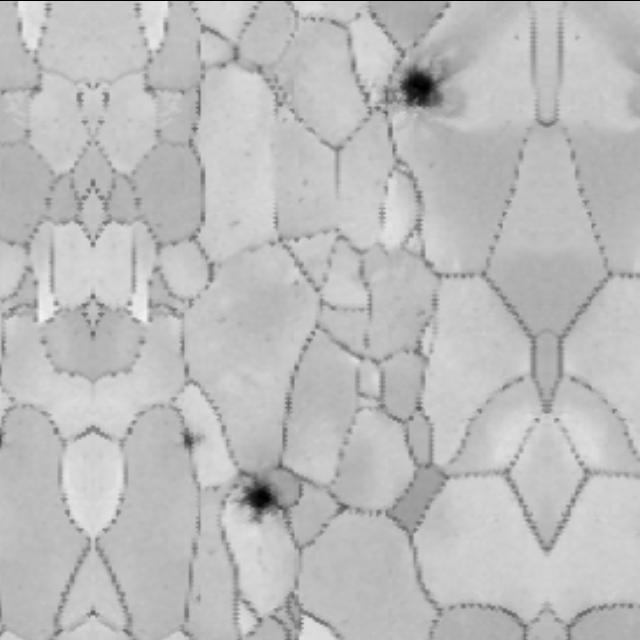good_void: (381, 43, 467, 132), (236, 470, 294, 524), (174, 424, 212, 451), (0, 425, 12, 451), (72, 90, 88, 105), (99, 90, 114, 105)
